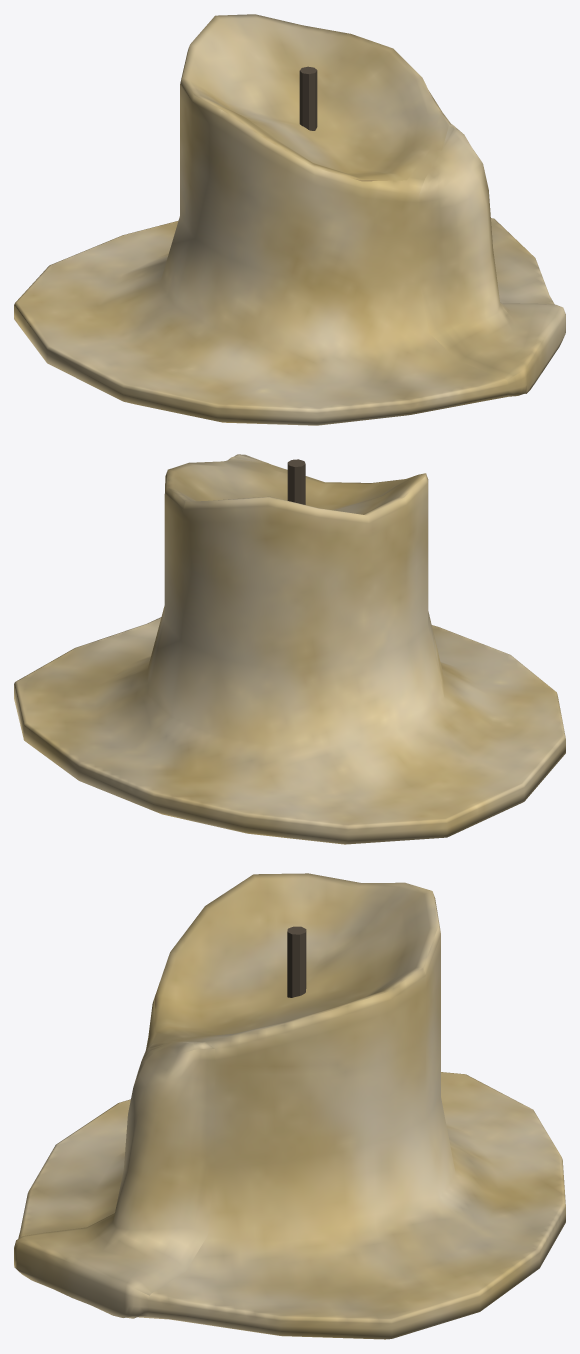
The model's file is candle.fbx.
3 renders of one model, top to bottom at view 1: azimuth 30°, elevation 25°; view 2: azimuth 150°, elevation 25°; view 3: azimuth 270°, elevation 25°, orthographic. The views are drawn at different scales.
Visible parts, largest first — view 1: candle4; view 2: candle4; view 3: candle4.
Part boxes in pixels (<box>): candle4: <box>14,14,565,425</box>; candle4: <box>14,454,565,844</box>; candle4: <box>14,873,565,1339</box>.
Bounding box in the file's own units: 67.89 × 38.76 × 61.4.
1 material, 1 textured.
